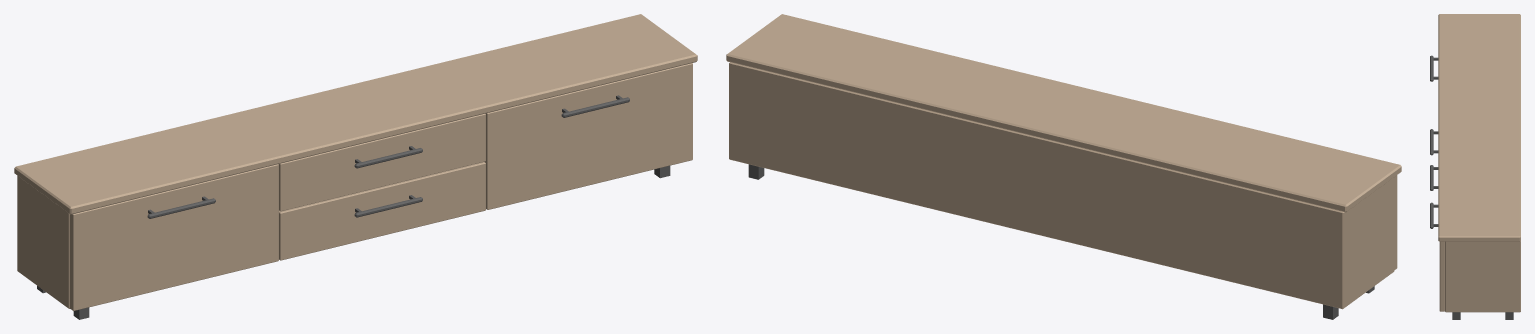
3 views of the same model, side by side, from view 1: azimuth 30°, elevation 25°; view 2: azimuth 150°, elevation 25°; view 3: azimuth 270°, elevation 25° (orthographic). The views are drawn at different scales.
Visible parts, largest first — view 1: cabinet; view 2: cabinet; view 3: cabinet.
Part boxes in pixels (x1,y1,x2,y2): cabinet: (14, 14, 697, 319); cabinet: (726, 14, 1401, 319); cabinet: (1430, 14, 1520, 319).
Bounding box in the file's own units: 1.86 × 0.35 × 0.32.
